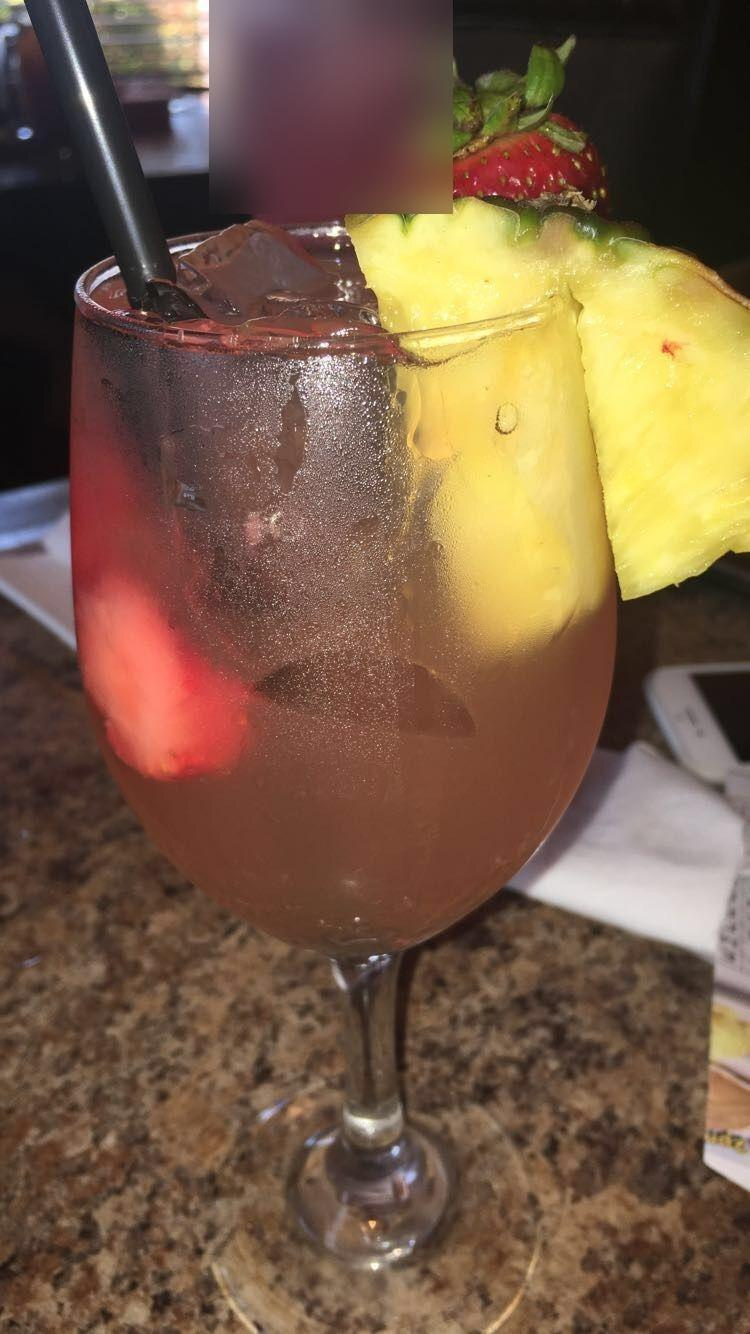glass-wine: (62, 227, 622, 1334)
